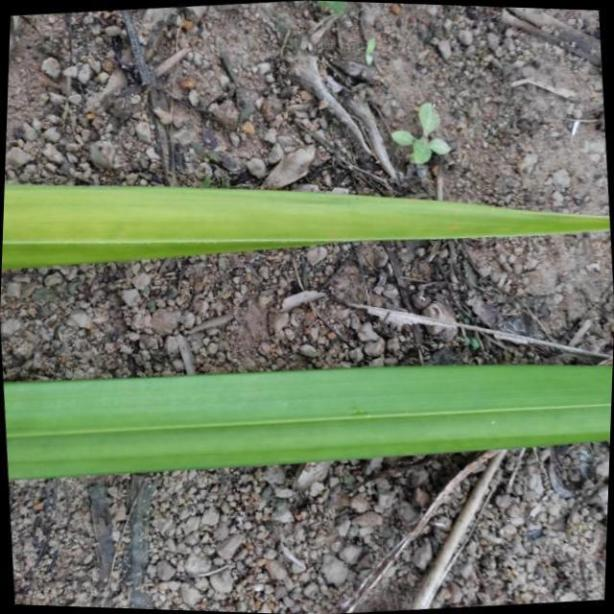nitrogen: (3, 362, 614, 480), (1, 177, 614, 270)
